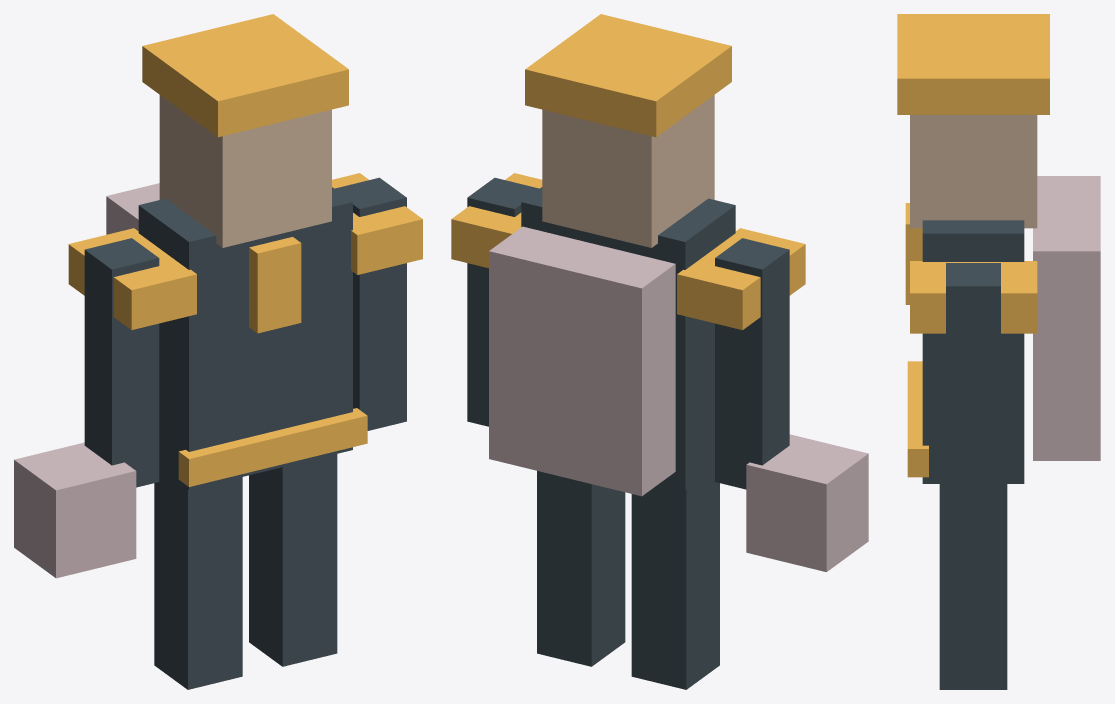
File: 03_pax_glassroot_warden_at_deep.glb
3 views of the same model, side by side, from view 1: azimuth 30°, elevation 25°; view 2: azimuth 150°, elevation 25°; view 3: azimuth 270°, elevation 25° (orthographic).
Visible parts, largest first — view 1: Pax Glassroot, Warden at Deep; view 2: Pax Glassroot, Warden at Deep; view 3: Pax Glassroot, Warden at Deep.
Boxes of the visible parts, x1,y1,x2,y2 form: Pax Glassroot, Warden at Deep: (14,14,422,689); Pax Glassroot, Warden at Deep: (451,14,868,689); Pax Glassroot, Warden at Deep: (897,14,1100,689).
Size of the model in its own units: 0.9364 by 1.49 by 0.4517.
